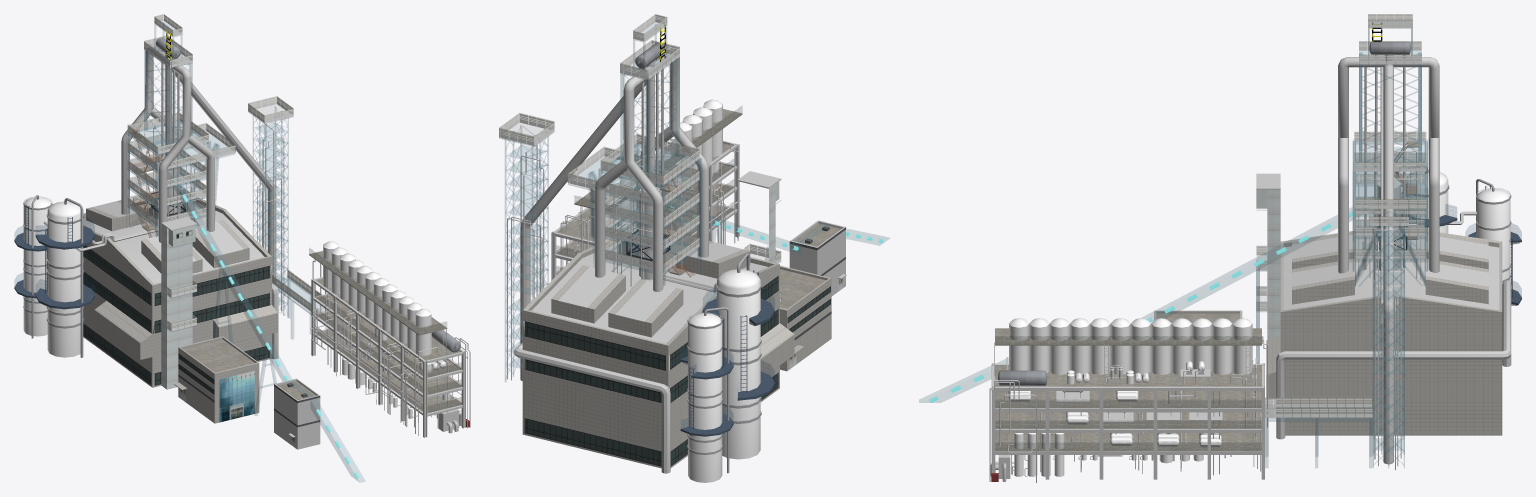
Rendered from gaolu01.glb.
The picture shows the model from 3 angles, left to right: view 1: azimuth 30°, elevation 25°; view 2: azimuth 150°, elevation 25°; view 3: azimuth 270°, elevation 25°; orthographic projection. The views are drawn at different scales.
Parts seen in each view (by area): view 1: GaoLu05, GaoLu29, GaoLu15, GaoLu02, GaoLu12, GaoLu07, GaoLu09, GaoLu03, GaoLu06, GaoLu04, GaoLu30, GaoLu25 (+6 smaller); view 2: GaoLu05, GaoLu15, GaoLu02, GaoLu07, GaoLu12, GaoLu03, GaoLu04, GaoLu29, GaoLu09, GaoLu30, GaoLu23, GaoLu24 (+4 smaller); view 3: GaoLu05, GaoLu29, GaoLu15, GaoLu09, GaoLu02, GaoLu12, GaoLu17, GaoLu04, GaoLu25, GaoLu07, GaoLu06, GaoLu16 (+3 smaller).
Part boxes in pixels (x1,y1,x2,y2): GaoLu05: (83, 191, 277, 387); GaoLu29: (310, 241, 470, 437); GaoLu15: (43, 44, 320, 449); GaoLu02: (126, 21, 332, 415); GaoLu12: (127, 14, 321, 331); GaoLu07: (23, 197, 80, 357); GaoLu09: (132, 133, 461, 413); GaoLu03: (83, 245, 270, 394); GaoLu06: (161, 224, 192, 389); GaoLu04: (83, 195, 264, 283); GaoLu30: (174, 336, 259, 423); GaoLu25: (170, 173, 365, 482); GaoLu05: (522, 230, 794, 468); GaoLu15: (507, 49, 846, 473); GaoLu02: (499, 22, 780, 382); GaoLu07: (688, 269, 760, 482); GaoLu12: (499, 14, 781, 302); GaoLu03: (524, 276, 830, 466); GaoLu04: (531, 171, 781, 343); GaoLu29: (551, 99, 740, 280); GaoLu09: (556, 109, 841, 277); GaoLu30: (780, 265, 831, 371); GaoLu23: (680, 253, 774, 473); GaoLu24: (680, 270, 774, 436); GaoLu05: (1266, 229, 1502, 435); GaoLu29: (989, 318, 1268, 482); GaoLu15: (1276, 54, 1519, 470); GaoLu09: (995, 141, 1418, 451); GaoLu02: (1256, 24, 1427, 467); GaoLu12: (1256, 14, 1426, 417); GaoLu17: (995, 336, 1261, 450); GaoLu04: (1256, 173, 1499, 310); GaoLu25: (919, 196, 1377, 402); GaoLu07: (1405, 169, 1510, 283); GaoLu06: (1267, 190, 1280, 339); GaoLu16: (998, 41, 1410, 385).
Size of the model in its own units: 39.17 by 47.36 by 67.01.
27 materials, 22 textured.
